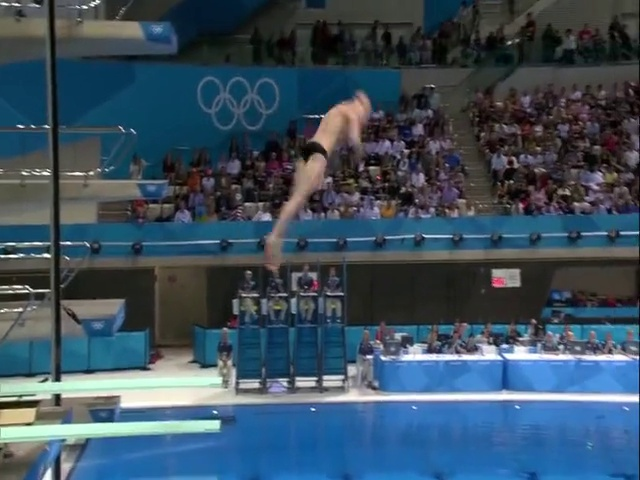diver: (263, 91, 371, 272)
